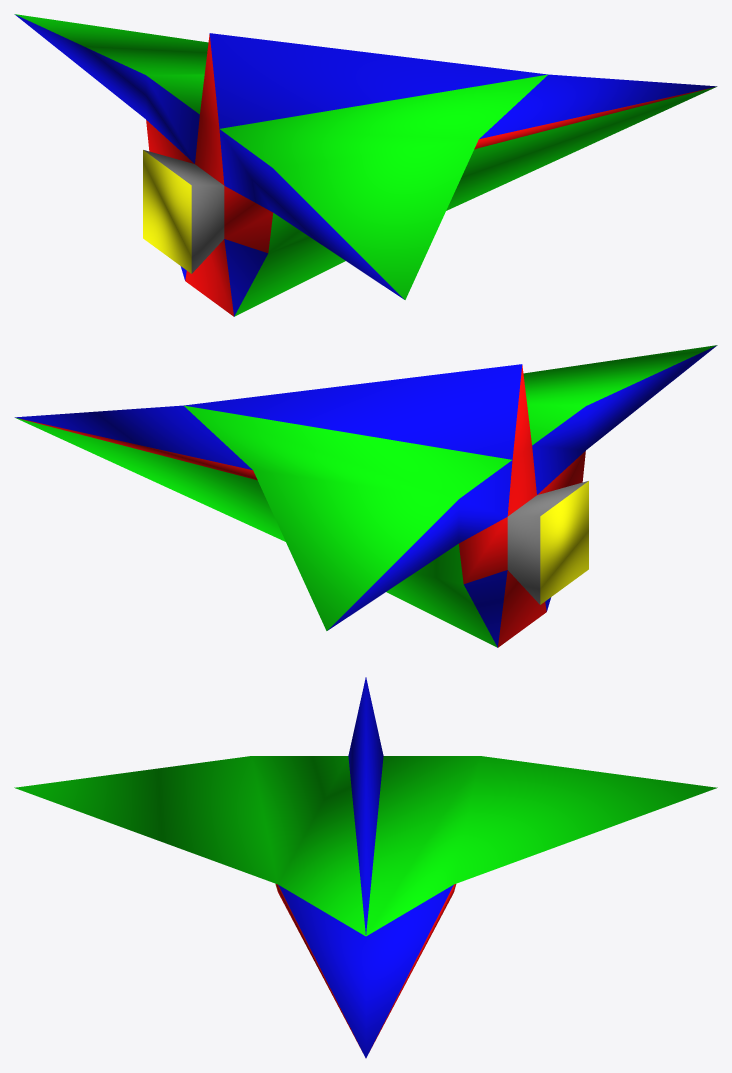
Rendered from Textured Jet Thing.fbx.
The picture shows the model from 3 angles, top to bottom: view 1: azimuth 30°, elevation 25°; view 2: azimuth 150°, elevation 25°; view 3: azimuth 270°, elevation 25°; orthographic projection. The views are drawn at different scales.
Visible parts, largest first — view 1: Cube; view 2: Cube; view 3: Cube.
Part boxes in pixels (<box>): Cube: <box>14,14,717,316</box>; Cube: <box>14,345,717,647</box>; Cube: <box>14,677,717,1058</box>.
Bounding box in the file's own units: 3.25 × 1.5 × 4.
